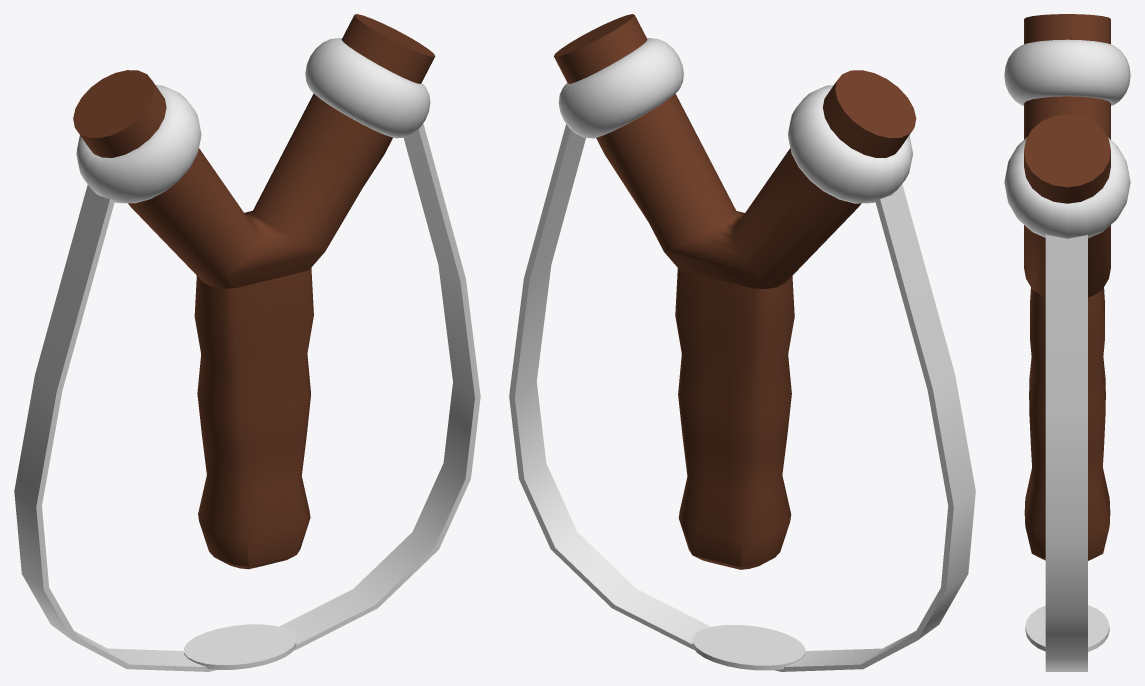
Rendered from Slingshot.fbx.
3 renders of one model, left to right at view 1: azimuth 30°, elevation 25°; view 2: azimuth 150°, elevation 25°; view 3: azimuth 270°, elevation 25°, orthographic. The views are drawn at different scales.
Parts seen in each view (by area): view 1: polySurface1; view 2: polySurface1; view 3: polySurface1.
Boxes of the visible parts, x1,y1,x2,y2 form: polySurface1: (14,14,480,671); polySurface1: (509,14,975,671); polySurface1: (1004,14,1130,671).
Size of the model in its own units: 11.68 by 15.12 by 3.
